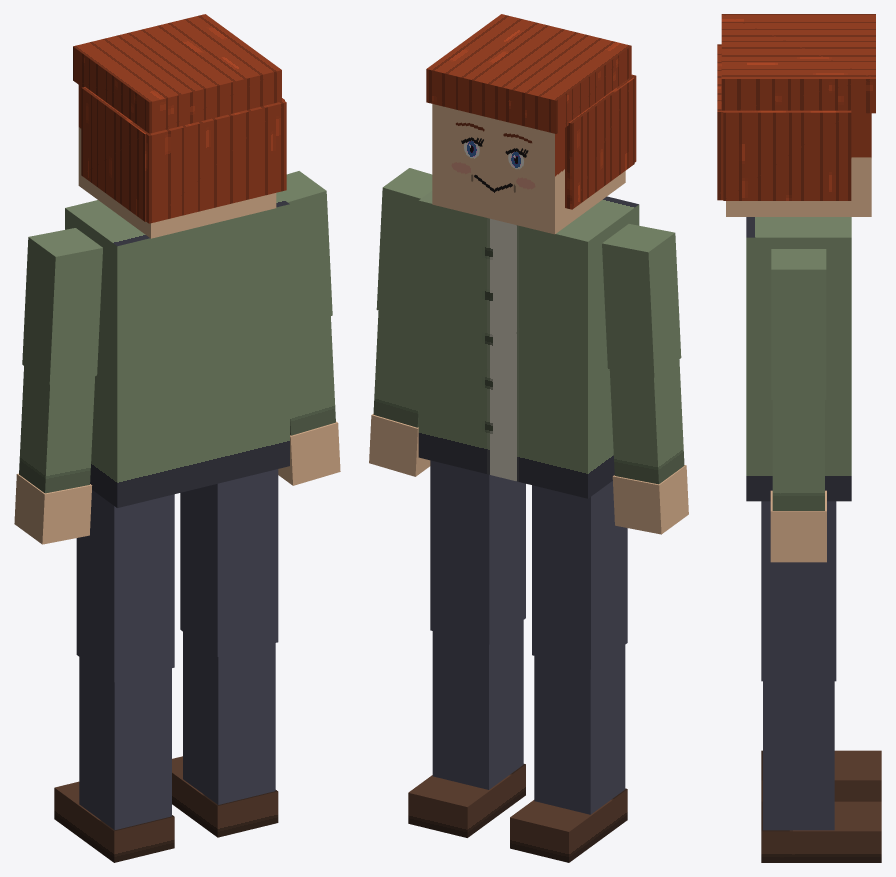
The model's file is survivor_woman.glb.
The picture shows the model from 3 angles, left to right: view 1: azimuth 30°, elevation 25°; view 2: azimuth 150°, elevation 25°; view 3: azimuth 270°, elevation 25°; orthographic projection. The views are drawn at different scales.
Parts seen in each view (by area): view 1: block_torso, block_hair-cap, block_thigh.L, block_thigh.R, block_shin.L, block_shin.R, block_hair-bob, block_upper_arm.L, block_forearm.L, block_hair-side, block_upper_arm.R, block_forearm.R (+5 smaller); view 2: block_torso, block_hair-cap, block_thigh.L, block_thigh.R, block_head, block_shin.R, block_shin.L, block_upper_arm.L, block_forearm.L, block_hair-side, block_upper_arm.R, block_foot.R (+4 smaller); view 3: block_torso, block_hair-cap, block_hair-side, block_shin.R, block_thigh.R, block_upper_arm.R, block_forearm.R, block_foot.R, block_head, block_hand.R, block_foot.L, block_hair-bob.
Boxes of the visible parts, box(x1,y1,x2,y2) form: block_torso: box(65, 194, 289, 507); block_hair-cap: box(73, 14, 281, 133); block_thigh.L: box(76, 490, 174, 682); block_thigh.R: box(180, 469, 278, 656); block_shin.L: box(79, 657, 171, 829); block_shin.R: box(183, 632, 275, 804); block_hair-bob: box(131, 99, 286, 223); block_upper_arm.L: box(22, 228, 102, 384); block_forearm.L: box(19, 366, 95, 493); block_hair-side: box(81, 87, 146, 221); block_upper_arm.R: box(276, 171, 332, 328); block_forearm.R: box(290, 316, 335, 435); block_torso: box(418, 191, 639, 498); block_hair-cap: box(426, 14, 631, 133); block_thigh.L: box(532, 481, 627, 669); block_thigh.R: box(430, 460, 525, 644); block_head: box(432, 104, 625, 234); block_shin.R: box(432, 620, 523, 789); block_shin.L: box(534, 645, 625, 814); block_upper_arm.L: box(602, 224, 681, 377); block_forearm.L: box(609, 359, 684, 484); block_hair-side: box(565, 77, 634, 209); block_upper_arm.R: box(376, 168, 432, 322); block_foot.R: box(408, 764, 525, 837); block_torso: box(746, 217, 851, 501); block_hair-cap: box(721, 14, 875, 113); block_hair-side: box(723, 110, 851, 200); block_shin.R: box(763, 681, 834, 830); block_thigh.R: box(761, 501, 836, 681); block_upper_arm.R: box(771, 249, 826, 399); block_forearm.R: box(772, 400, 824, 510); block_foot.R: box(761, 801, 881, 862); block_head: box(726, 113, 871, 216); block_hand.R: box(770, 490, 826, 562); block_foot.L: box(761, 750, 881, 801); block_hair-bob: box(717, 44, 755, 200).
Size of the model in its own units: 0.6908 by 1.71 by 0.3274.
Materials: 1 (1 with a texture image).
